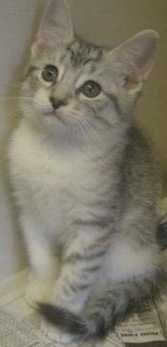Cat: (7, 0, 158, 317)
